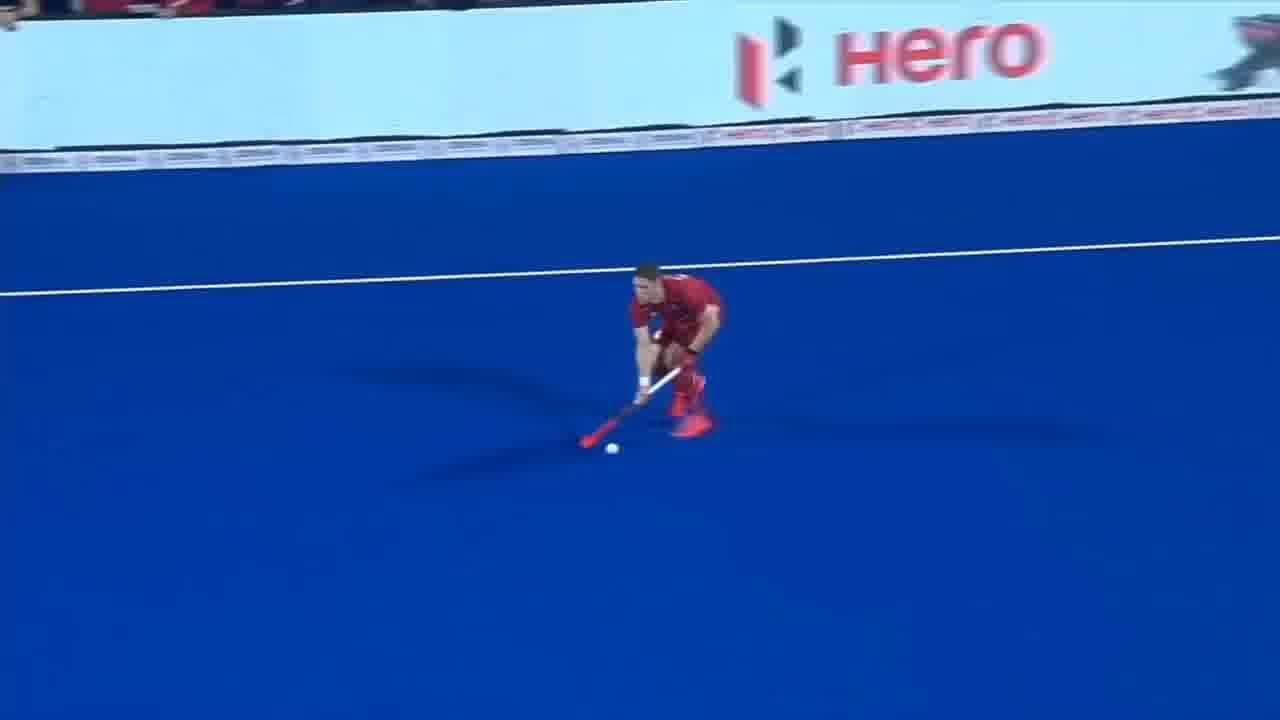ball: (601, 439, 629, 459)
